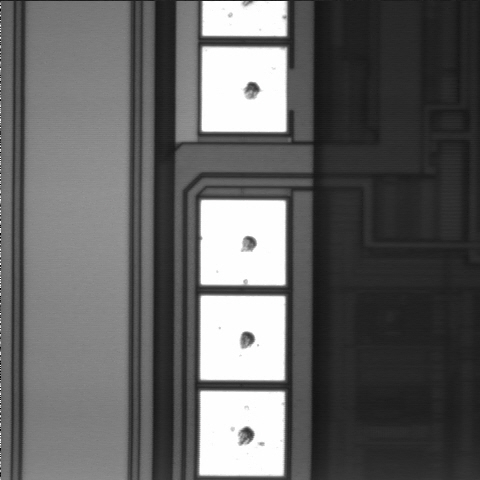pad: (201, 200, 286, 285), (199, 391, 284, 476), (202, 47, 286, 132), (200, 296, 285, 380)
